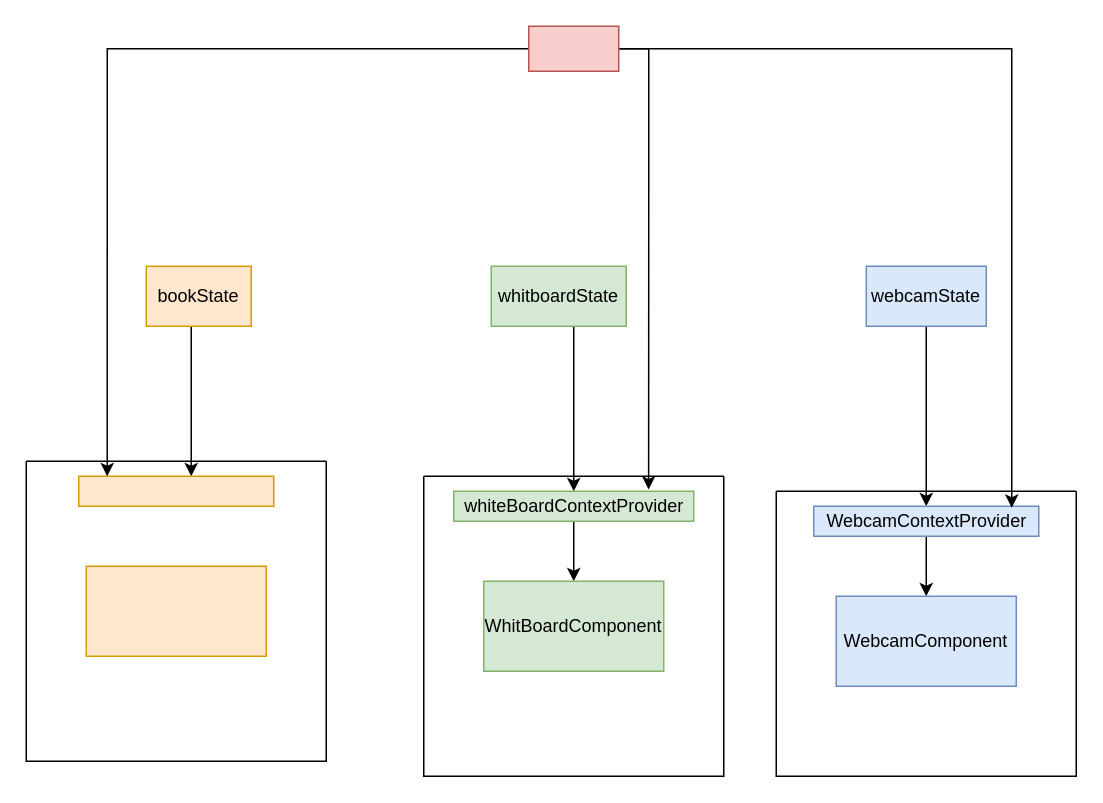
This 1103x803 diagram has some shape labels left out. Each missing label, with the centre of its shape:
"appState" goes at (x=573, y=48).
"BookComponent" goes at (x=175, y=610).
"bookContextProvider" goes at (x=175, y=490).
